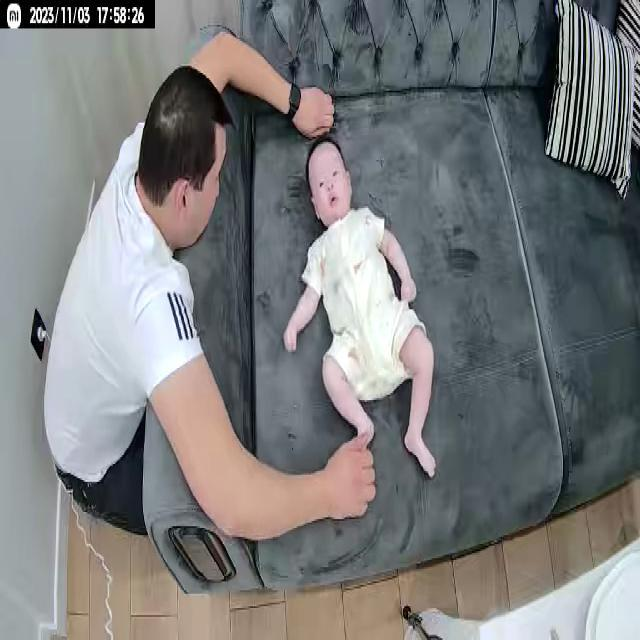baby: (279, 134, 445, 484)
